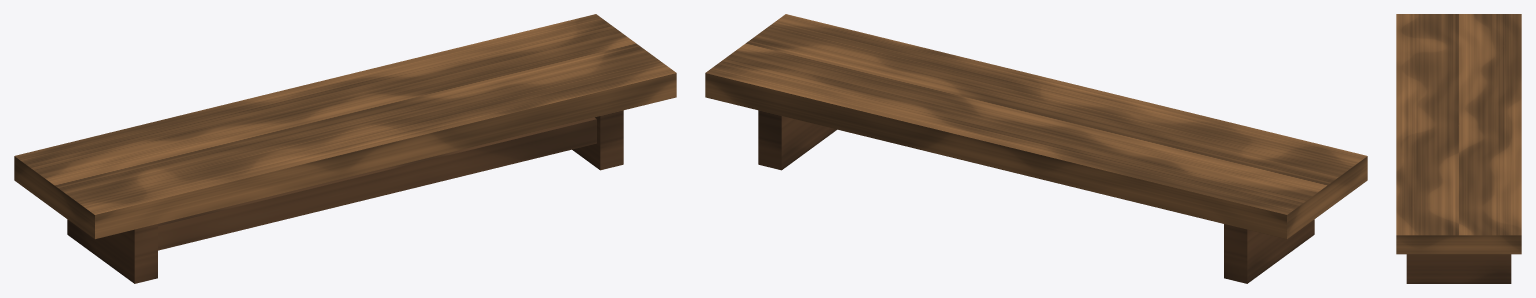
File: wall_shelf.fbx
3 renders of one model, left to right at view 1: azimuth 30°, elevation 25°; view 2: azimuth 150°, elevation 25°; view 3: azimuth 270°, elevation 25°, orthographic. The views are drawn at different scales.
Parts seen in each view (by area): view 1: wall_shelf; view 2: wall_shelf; view 3: wall_shelf.
Boxes of the visible parts, <box> form: wall_shelf: <box>14,14,676,283</box>; wall_shelf: <box>705,14,1367,283</box>; wall_shelf: <box>1396,14,1521,283</box>.
Bounding box in the file's own units: 100 × 14 × 24.
